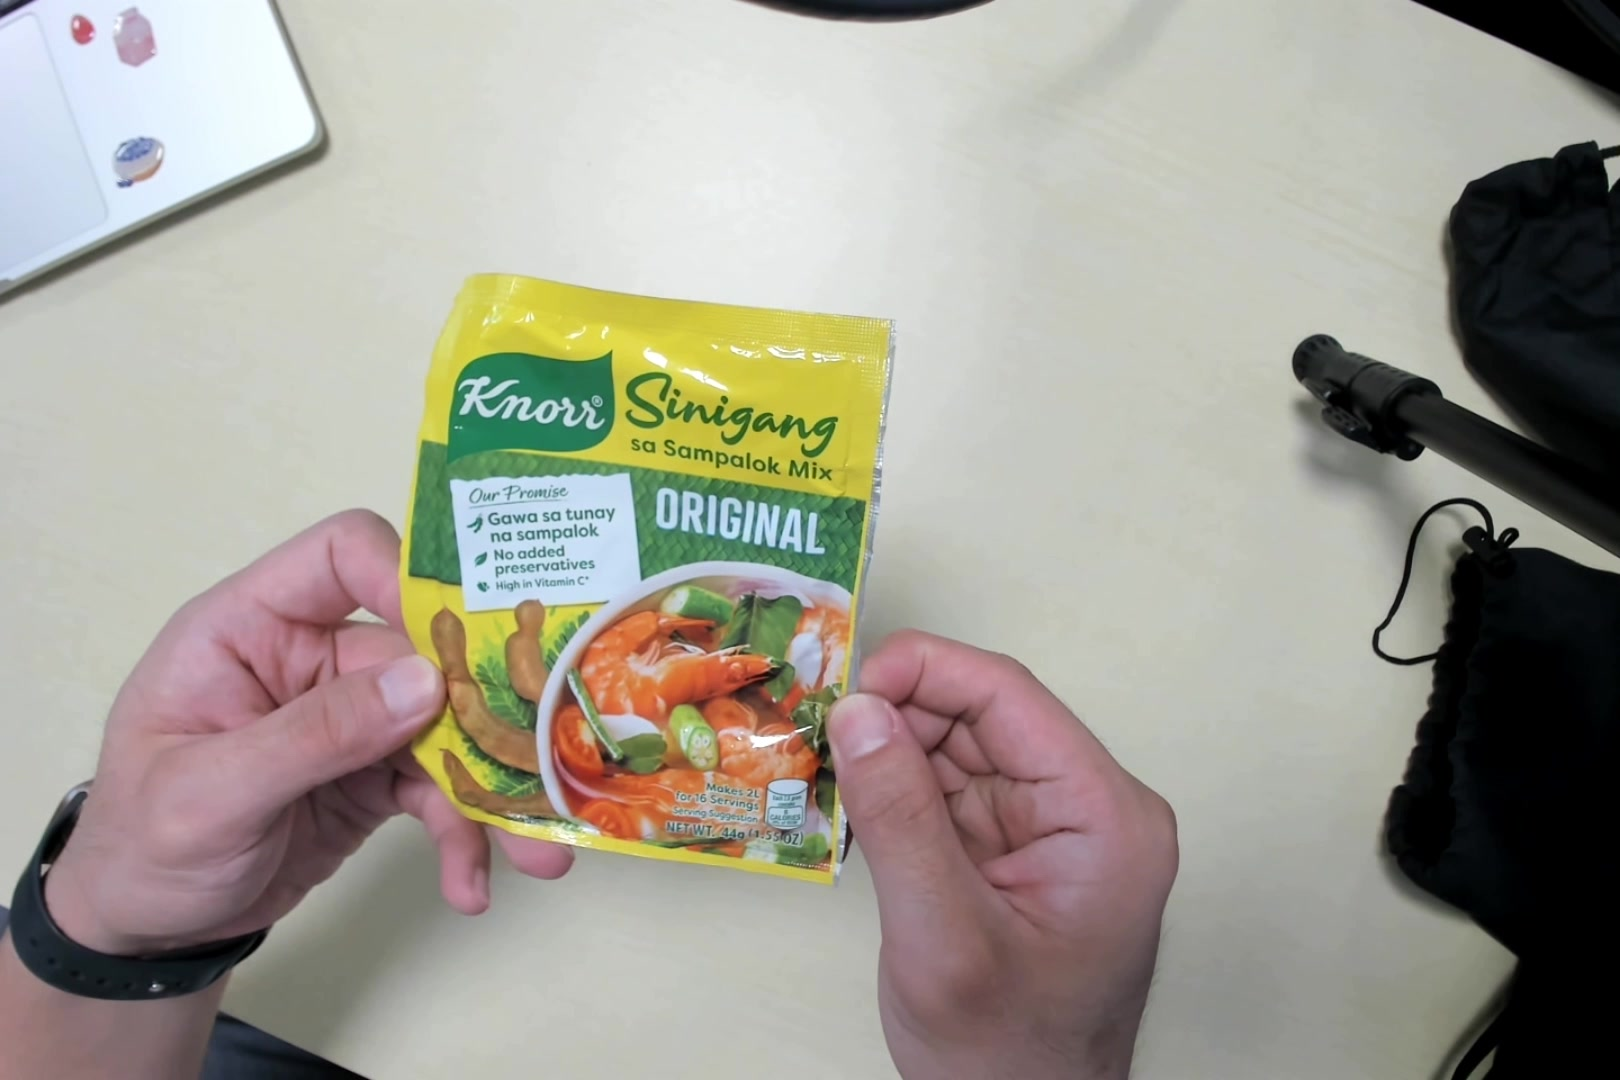SoupStock_0-99g_NonHalal_NonHealthy: (389, 256, 880, 885)
